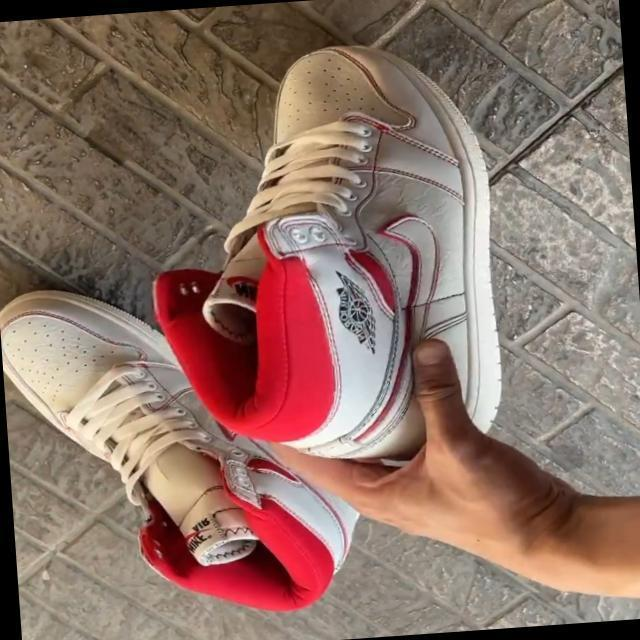nike fake jordan 1: (135, 29, 509, 480), (0, 270, 374, 631)
